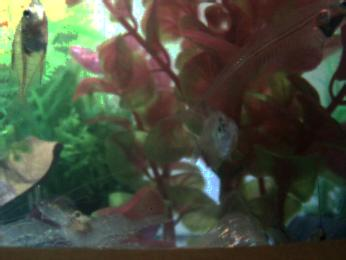X-ray fish: (7, 1, 50, 137), (186, 101, 238, 167)
glassfish: (171, 6, 334, 136)
siberian prawn: (40, 195, 176, 246), (1, 211, 64, 250)
